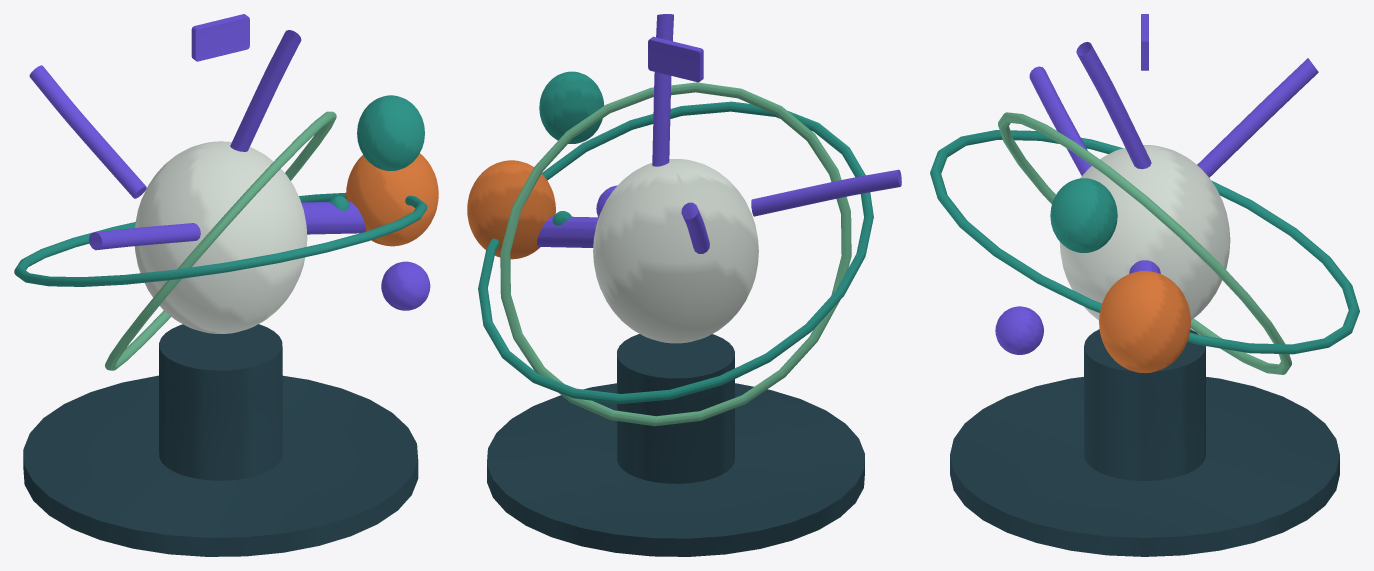
File: 0516_生活中的化学图鉴_苯.glb
The picture shows the model from 3 angles, left to right: view 1: azimuth 30°, elevation 25°; view 2: azimuth 150°, elevation 25°; view 3: azimuth 270°, elevation 25°; orthographic projection. The views are drawn at different scales.
Visible parts, largest first — view 1: card_0516; view 2: card_0516; view 3: card_0516.
Part boxes in pixels (box(x1,y1,x2,y2)): card_0516: box(14, 14, 438, 556); card_0516: box(467, 14, 901, 556); card_0516: box(930, 14, 1359, 556).
Size of the model in its own units: 0.9082 by 1 by 0.8663.
